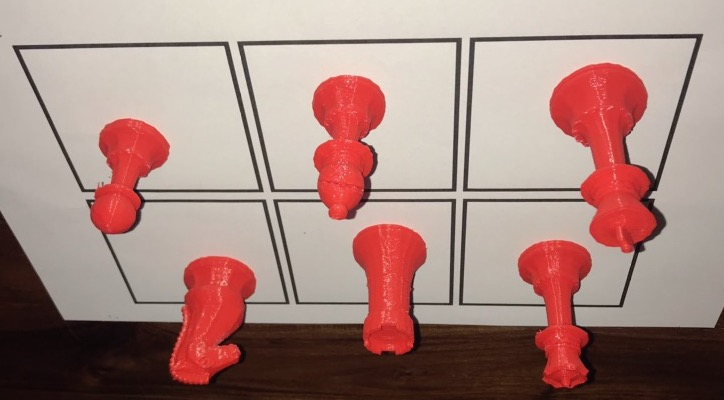Red Bishop: (299, 70, 390, 221)
Red Castle: (342, 221, 432, 359)
Red King: (537, 58, 677, 261)
Red Knight: (159, 245, 261, 388)
Red Pawn: (85, 115, 177, 240)
Red Queen: (507, 234, 611, 394)
